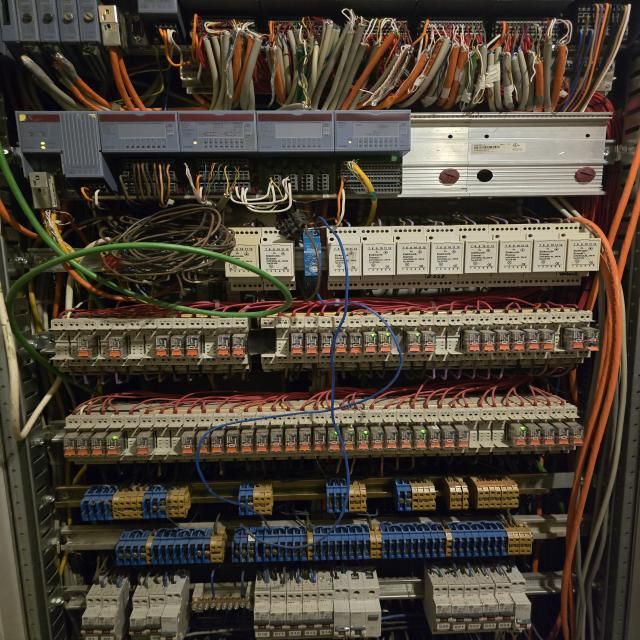Dimmer: (549, 223, 601, 285), (518, 223, 567, 286), (485, 224, 533, 287), (453, 225, 499, 287), (423, 225, 465, 289), (390, 226, 431, 288), (228, 227, 261, 291), (360, 226, 394, 288), (262, 227, 295, 290), (327, 227, 360, 289), (302, 228, 323, 288)
FI_Sicherungskombi: (350, 588, 381, 640)
Relais: (508, 422, 526, 447), (564, 329, 584, 351), (525, 422, 541, 447), (462, 330, 480, 352), (107, 338, 126, 357), (405, 330, 420, 354), (104, 436, 122, 456), (540, 422, 555, 446), (569, 422, 584, 446), (480, 330, 496, 352), (525, 329, 540, 352), (185, 336, 200, 358), (421, 331, 435, 354), (510, 329, 524, 352), (540, 329, 554, 352), (555, 422, 569, 445), (378, 330, 391, 354), (78, 338, 92, 360), (496, 330, 510, 352), (314, 433, 328, 455), (342, 433, 356, 455), (89, 436, 104, 456), (399, 431, 412, 454), (170, 336, 184, 357), (585, 329, 599, 350), (270, 433, 284, 454), (384, 432, 398, 453), (290, 334, 303, 356), (304, 334, 317, 356), (348, 332, 361, 354), (76, 436, 90, 456), (136, 436, 150, 456), (442, 430, 456, 450), (335, 332, 347, 355), (328, 432, 340, 455), (428, 430, 440, 453), (156, 336, 169, 357), (63, 436, 76, 457), (299, 434, 312, 455), (372, 432, 384, 454), (414, 431, 426, 453), (320, 334, 333, 354), (218, 334, 229, 357), (364, 331, 375, 354), (232, 335, 244, 356), (210, 436, 224, 454), (357, 432, 369, 453), (180, 436, 193, 455), (196, 436, 209, 455), (285, 434, 298, 453), (256, 434, 268, 454), (226, 436, 239, 454), (240, 436, 253, 454), (457, 430, 469, 449)
SPS-System -Steuerungskomponente-: (96, 111, 180, 152), (14, 111, 96, 153), (179, 110, 257, 152), (258, 110, 333, 152), (334, 110, 410, 151)
Sicherungen_230V: (509, 581, 532, 633), (461, 584, 483, 634), (476, 584, 498, 633), (493, 583, 514, 633), (160, 593, 182, 640), (432, 585, 452, 634), (447, 584, 467, 633), (98, 594, 119, 640), (81, 595, 102, 640), (146, 594, 166, 640), (333, 588, 351, 639), (286, 591, 304, 640), (129, 597, 149, 640), (317, 589, 333, 639), (255, 591, 271, 640), (271, 591, 287, 640), (302, 591, 318, 640)
Verbinder: (231, 519, 534, 563), (115, 527, 225, 565), (81, 486, 188, 519), (470, 476, 518, 508), (395, 477, 437, 510), (326, 480, 367, 512), (239, 482, 272, 515), (444, 476, 468, 510)
